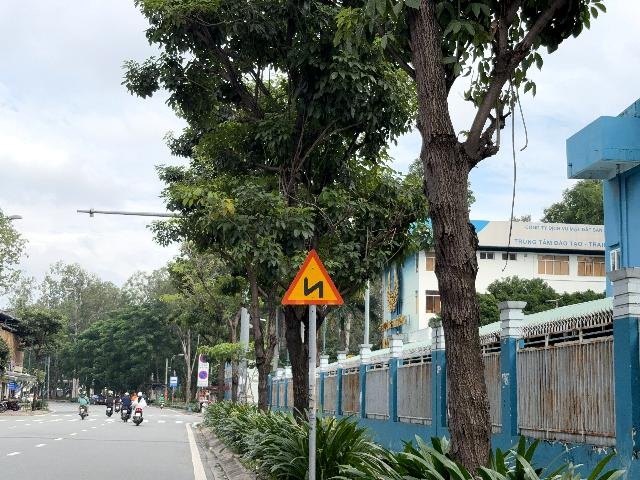nhieu-cho-ngoat-nguy-hiem-lien-tiep: (281, 250, 344, 305)
